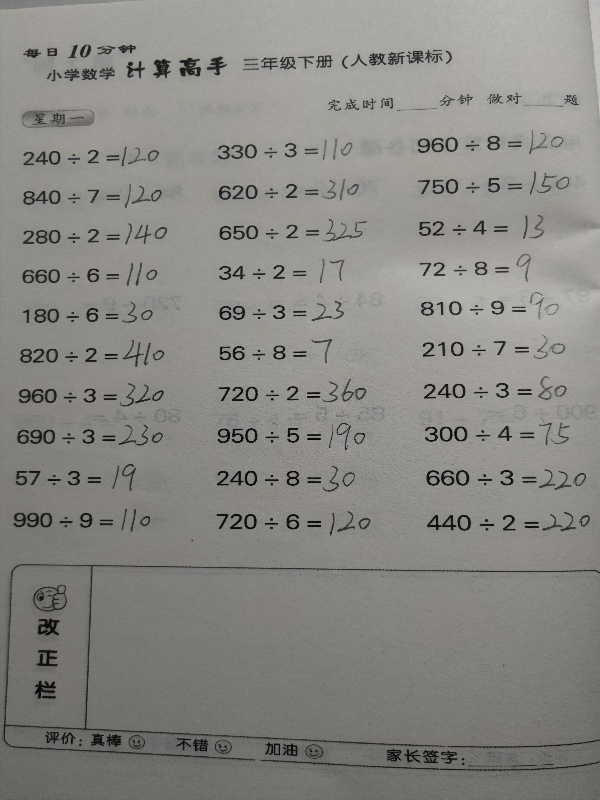equation: (214, 418, 372, 453), (416, 289, 570, 324), (212, 508, 374, 540), (17, 337, 169, 371), (213, 462, 360, 496), (413, 209, 556, 243), (216, 215, 371, 246), (15, 380, 168, 411), (421, 464, 590, 492), (421, 373, 571, 404), (414, 169, 574, 198), (414, 127, 568, 157), (424, 508, 594, 535), (422, 419, 573, 449), (20, 181, 166, 212), (13, 421, 168, 450), (12, 460, 140, 495), (416, 251, 543, 286), (10, 506, 154, 536), (213, 378, 371, 405), (19, 260, 161, 290), (20, 220, 171, 248), (216, 334, 338, 368), (215, 175, 363, 203), (214, 137, 356, 166), (20, 301, 157, 331), (216, 256, 348, 287), (418, 336, 569, 362), (20, 143, 163, 170), (215, 299, 347, 325)
